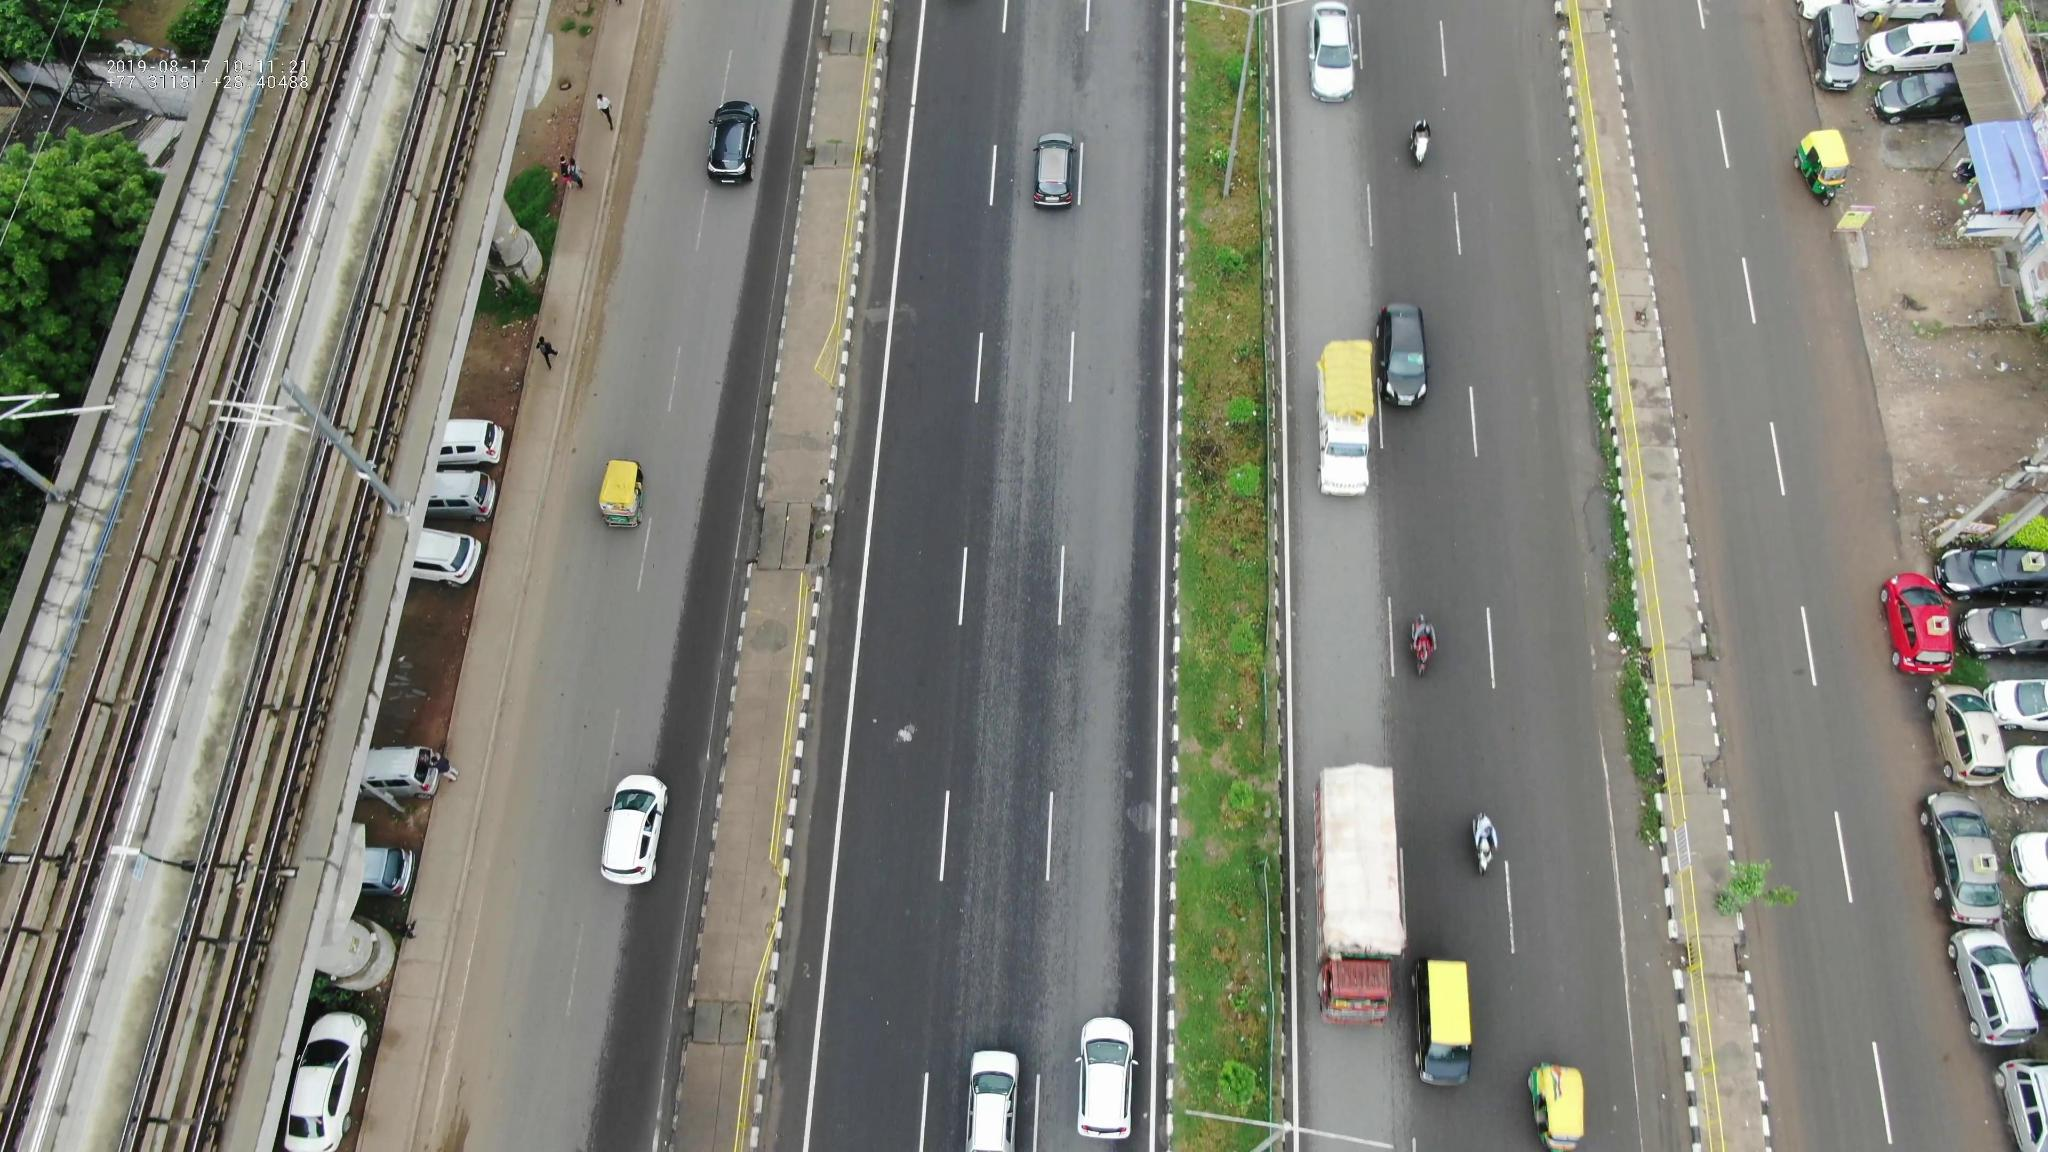Muddy_road: (1799, 359, 1883, 551), (1781, 211, 1848, 349)
Waterlogging: (1580, 474, 1620, 592)
